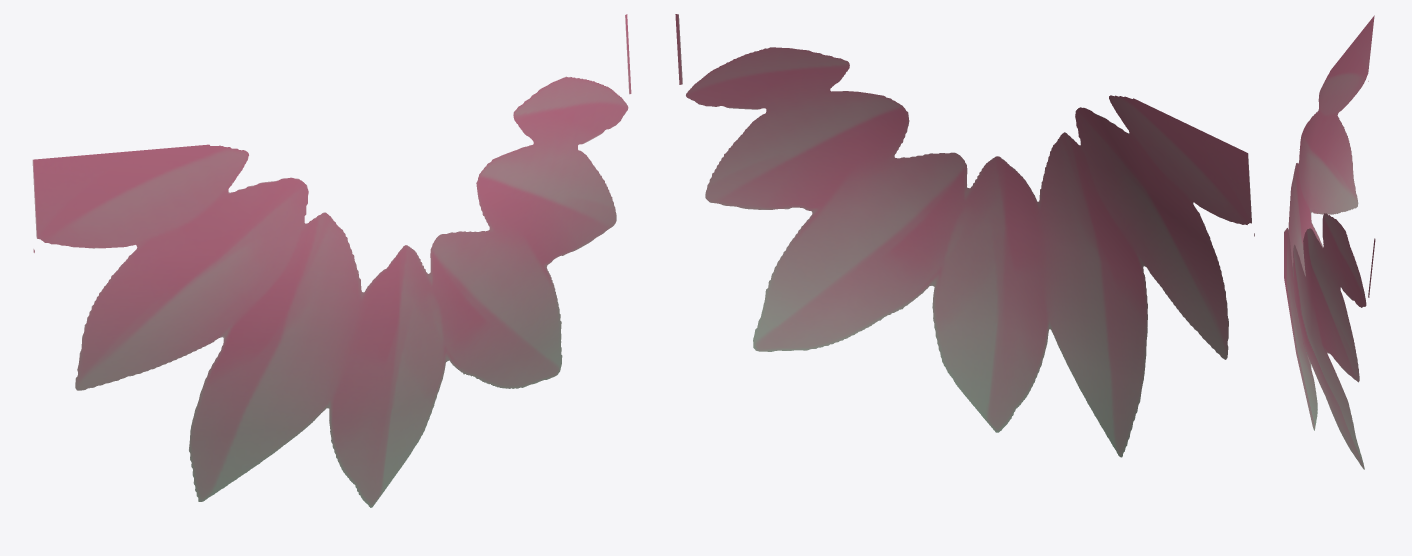
File: M_plante_arbre_2.FBX
3 views of the same model, side by side, from view 1: azimuth 30°, elevation 25°; view 2: azimuth 150°, elevation 25°; view 3: azimuth 270°, elevation 25° (orthographic). The views are drawn at different scales.
Parts seen in each view (by area): view 1: Plane189; view 2: Plane189; view 3: Plane189.
Part boxes in pixels (box(x1,y1,x2,y2)): Plane189: box(32, 14, 631, 507); Plane189: box(675, 14, 1254, 457); Plane189: box(1284, 15, 1375, 469).
Bounding box in the file's own units: 223 × 140 × 47.71.
